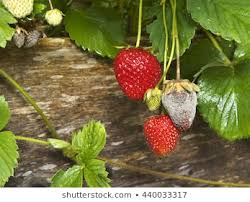ripe: (114, 44, 161, 106), (142, 114, 181, 159)
unripe: (163, 73, 198, 134), (142, 86, 163, 110), (13, 26, 31, 49), (25, 23, 42, 47), (45, 7, 69, 24)
